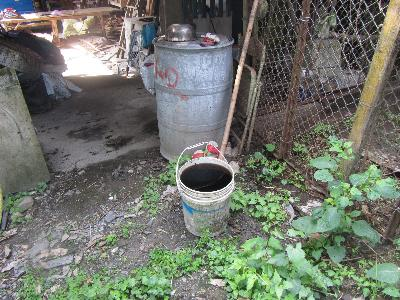bowl: (166, 23, 196, 42)
bucket: (152, 32, 234, 163), (176, 142, 235, 239)
